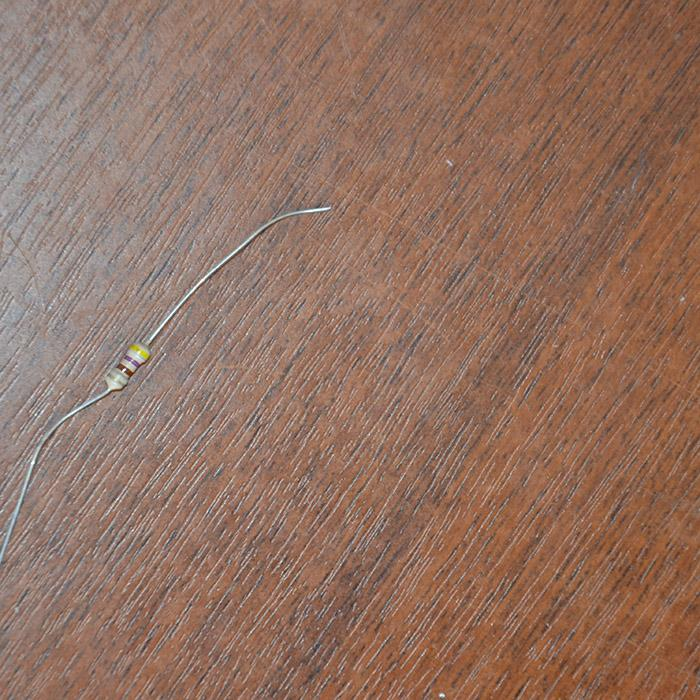resistor: (104, 339, 152, 391)
